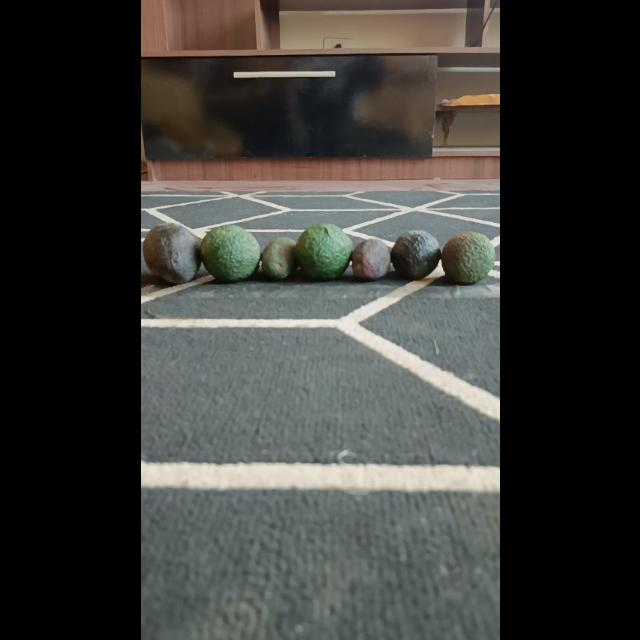Primera: (142, 222, 202, 284), (199, 224, 261, 282), (294, 222, 354, 280)
Segunda: (440, 232, 494, 286), (392, 230, 442, 280)
Tercera: (351, 238, 391, 280), (260, 237, 296, 280)
